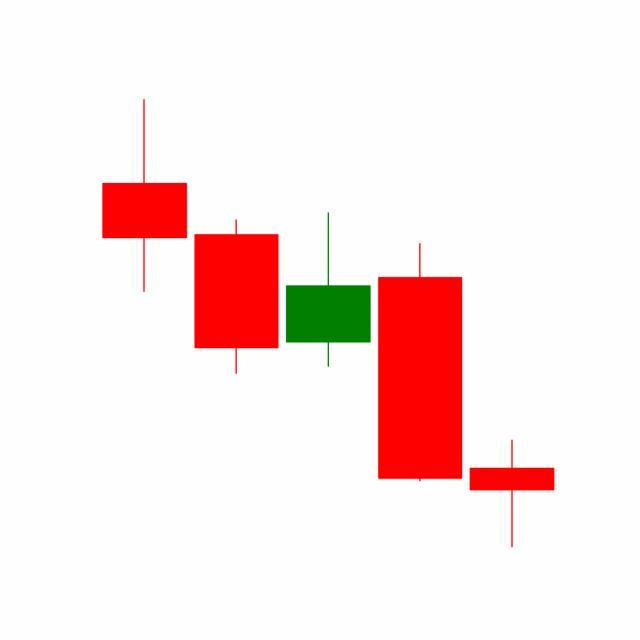Three Outside Up-Down: (280, 208, 555, 549)
